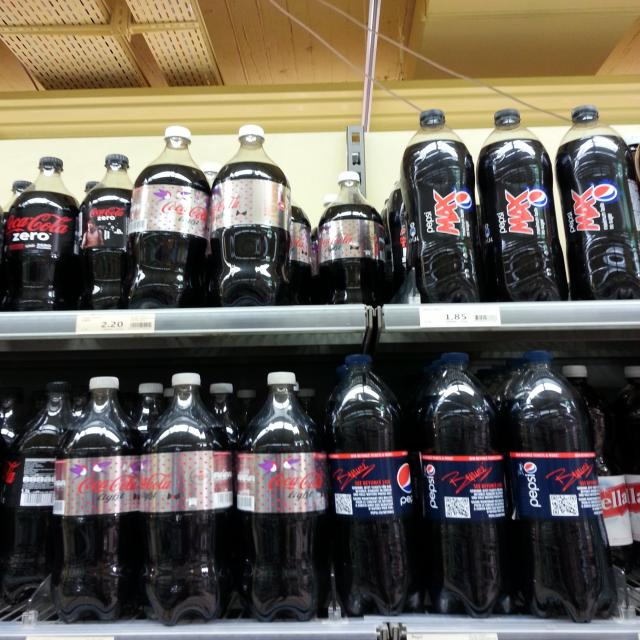SoftDrinks: (497, 350, 607, 622), (418, 352, 522, 616), (134, 373, 237, 628), (330, 355, 422, 620), (238, 372, 328, 623), (53, 373, 137, 624), (398, 108, 487, 305), (480, 107, 570, 300), (554, 103, 640, 302), (1, 378, 70, 614), (209, 123, 294, 307), (132, 126, 212, 306), (315, 170, 399, 305), (5, 155, 76, 314), (81, 150, 137, 308)
